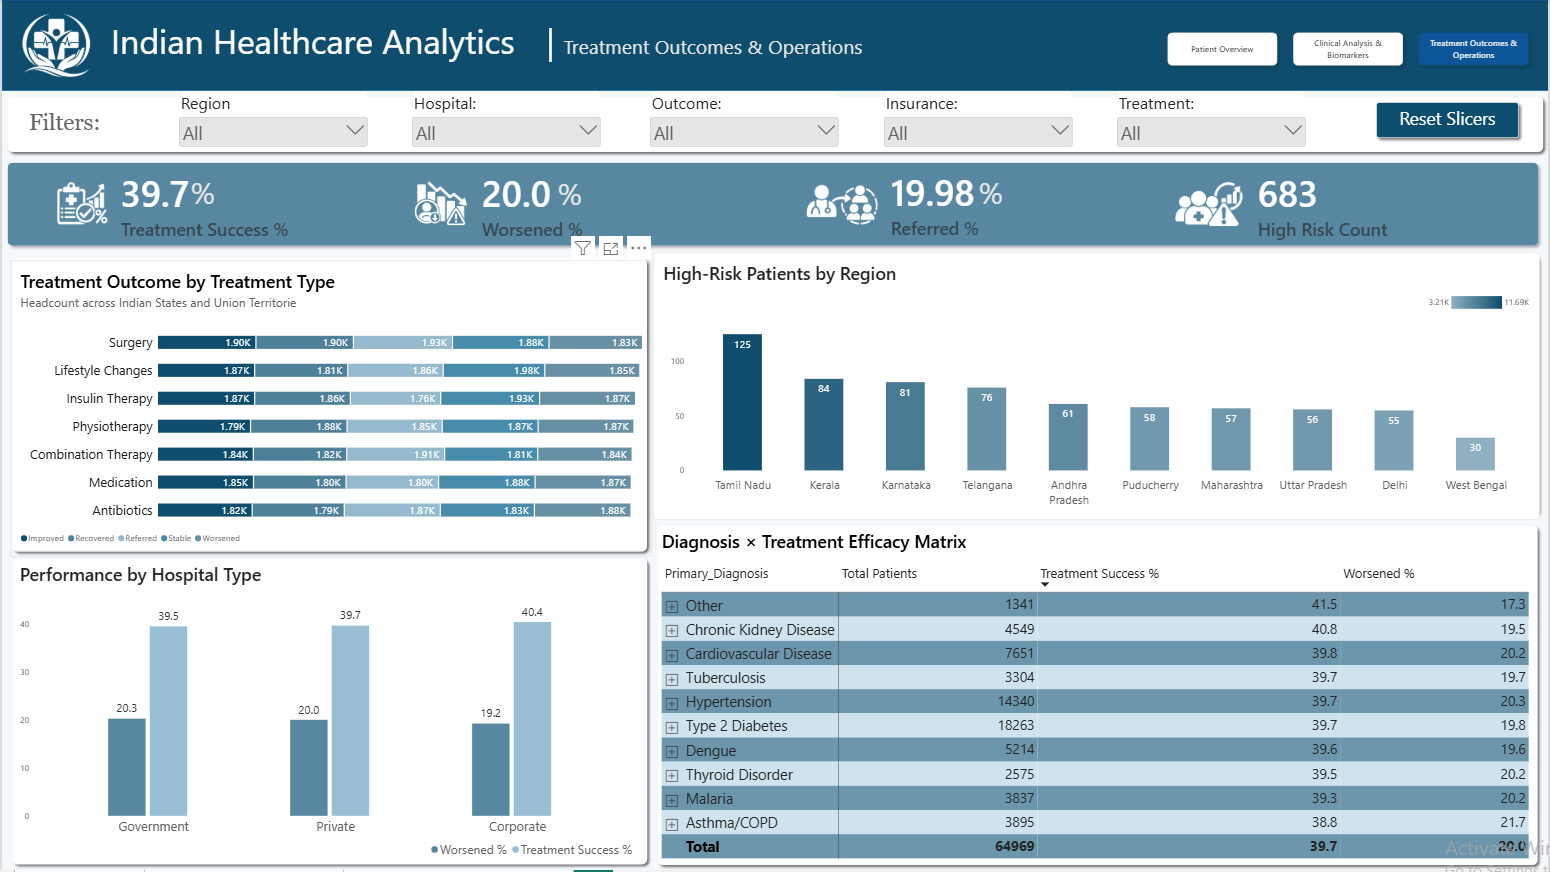

Layout of this report page (visuals, bound fields, positions):
{"tool":"powerbi","page":{"name":"Treatment Outcomes & Operations","canvas":[2560,1440],"ordinal":2},"visuals":[{"type":"shape","box":[0,260,2552,156],"z":0},{"type":"shape","box":[0,0,2560,150],"z":1000},{"type":"cardVisual","fields":{"Data":["Indian_healthcare.High Risk Count"]},"box":[2062.5,262.5,295,150],"z":2000},{"type":"textbox","box":[180,30,2355,87.5],"z":3000},{"type":"shape","box":[8.3,416.7,1068.3,505],"z":4000},{"type":"shape","box":[0,150,2560,110],"z":5000},{"type":"cardVisual","fields":{"Data":["Indian_healthcare.Referred %"]},"box":[1455,262.5,205,147.5],"z":5000,"group":"g3"},{"type":"barChart","title":"Treatment Outcome by Treatment Type","fields":{"Series":["Indian_healthcare.Treatment_Outcome"],"Y":["Indian_healthcare.Total Patients"],"Category":["Indian_healthcare.Treatment_Type"]},"box":[13.3,430,1063.3,491.7],"z":6000},{"type":"cardVisual","fields":{"Data":["Indian_healthcare.Treatment Success %"]},"box":[180,262.5,312.5,150],"z":7000,"group":"g1"},{"type":"shape","box":[1077.8,412.2,1474.4,450],"z":7000},{"type":"shape","box":[1076.7,860,1475,580],"z":8000},{"type":"shape","box":[7.8,915.6,1068.9,524.4],"z":9000},{"type":"cardVisual","fields":{"Data":["Indian_healthcare.Worsened %"]},"box":[777.5,277.5,217.5,120],"z":10000,"group":"g2"},{"type":"pivotTable","title":"Diagnosis × Treatment Efficacy Matrix ","fields":{"Rows":["Indian_healthcare.Primary_Diagnosis","Indian_healthcare.Treatment_Type"],"Values":["Indian_healthcare.Total Patients","Indian_healthcare.Treatment Success %","Indian_healthcare.Worsened %"]},"box":[1076.7,860,1468.3,580],"z":10000},{"type":"image","box":[0,0,180,150],"z":11000},{"type":"actionButton","box":[2266,160,253.3,76.7],"z":12000},{"type":"group","id":"g1","title":"Group 1","box":[180,262.5,312.5,150],"z":13000},{"type":"group","id":"g2","title":"Group 2","box":[777.5,277.5,217.5,120],"z":14000},{"type":"slicer","fields":{"Values":["Indian_healthcare.Region"]},"box":[288.8,150,322,92],"z":15000},{"type":"textbox","box":[44,180,135.7,44.3],"z":16000},{"type":"slicer","fields":{"Values":["Indian_healthcare.Hospital_Type"]},"box":[673.1,150,322,92],"z":17000},{"type":"slicer","fields":{"Values":["Indian_healthcare.Treatment_Outcome"]},"box":[1066.9,150,322,92],"z":18000},{"type":"slicer","fields":{"Values":["Indian_healthcare.Insurance_Covered"]},"box":[1455.4,150,322,92],"z":19000},{"type":"group","id":"g3","title":"Group 3","box":[1455,262.5,205,147.5],"z":20000},{"type":"slicer","fields":{"Values":["Indian_healthcare.Treatment_Type"]},"box":[1841,150,322,92],"z":21000},{"type":"pageNavigator","box":[1920,44,616.4,73.8],"z":22000},{"type":"image","box":[73.1,282.3,115.8,106.9],"z":23000,"group":"g4"},{"type":"image","box":[668.3,282.5,115.8,106.9],"z":23000,"group":"g5"},{"type":"image","box":[1933,283,130,110],"z":23000,"group":"g7"},{"type":"image","box":[1325.6,283.1,130,110],"z":23000,"group":"g6"},{"type":"textbox","box":[920,288.2,48.2,73.6],"z":23000},{"type":"textbox","box":[1616.7,286.7,47.5,65.8],"z":24000},{"type":"textbox","box":[312.2,286.7,48.3,69.2],"z":25000},{"type":"group","id":"g4","title":"Group 2","box":[73.1,282.3,116.2,106.9],"z":26000},{"type":"group","id":"g5","title":"Group 2","box":[668.3,282.5,115.8,106.7],"z":27000},{"type":"clusteredColumnChart","title":"Performance by Hospital Type","fields":{"Category":["Indian_healthcare.Hospital_Type"],"Y":["Indian_healthcare.Worsened %","Indian_healthcare.Treatment Success %"]},"box":[14,916,1052,524],"z":28000},{"type":"group","id":"g6","title":"Group 2","box":[1325.6,283.1,130,110],"z":29000},{"type":"columnChart","title":"High-Risk Patients by Region","fields":{"Category":["Indian_healthcare.Region"],"Y":["Indian_healthcare.High Risk Count"]},"box":[1077.5,417.5,1467.5,442.5],"z":30000},{"type":"group","id":"g7","title":"Group 2","box":[1933,283,130,110],"z":31000}]}

Visuals, with their boxes in screenshot pixels (x1, y1, x2, y2), scaled from the page's 2560x1440 canvas onto the 1550x872 screenshot:
shape: select_region(0, 157, 1545, 252)
shape: select_region(0, 0, 1549, 91)
cardVisual - Indian_healthcare.High Risk Count: select_region(1249, 159, 1427, 250)
textbox: select_region(109, 18, 1535, 71)
shape: select_region(5, 252, 652, 558)
shape: select_region(0, 91, 1549, 157)
cardVisual - Indian_healthcare.Referred %: select_region(881, 159, 1005, 248)
"Treatment Outcome by Treatment Type" barChart: select_region(8, 260, 652, 558)
cardVisual - Indian_healthcare.Treatment Success %: select_region(109, 159, 298, 250)
shape: select_region(653, 250, 1545, 522)
shape: select_region(652, 521, 1545, 871)
shape: select_region(5, 554, 652, 871)
cardVisual - Indian_healthcare.Worsened %: select_region(471, 168, 602, 241)
"Diagnosis × Treatment Efficacy Matrix " pivotTable: select_region(652, 521, 1541, 871)
image: select_region(0, 0, 109, 91)
actionButton: select_region(1372, 97, 1525, 143)
"Group 1" group: select_region(109, 159, 298, 250)
"Group 2" group: select_region(471, 168, 602, 241)
slicer - Indian_healthcare.Region: select_region(175, 91, 370, 147)
textbox: select_region(27, 109, 109, 136)
slicer - Indian_healthcare.Hospital_Type: select_region(408, 91, 603, 147)
slicer - Indian_healthcare.Treatment_Outcome: select_region(646, 91, 841, 147)
slicer - Indian_healthcare.Insurance_Covered: select_region(881, 91, 1076, 147)
"Group 3" group: select_region(881, 159, 1005, 248)
slicer - Indian_healthcare.Treatment_Type: select_region(1115, 91, 1310, 147)
pageNavigator: select_region(1162, 27, 1536, 71)
image: select_region(44, 171, 114, 236)
image: select_region(405, 171, 475, 236)
image: select_region(1170, 171, 1249, 238)
image: select_region(803, 171, 881, 238)
textbox: select_region(557, 175, 586, 219)
textbox: select_region(979, 174, 1008, 213)
textbox: select_region(189, 174, 218, 216)
"Group 2" group: select_region(44, 171, 115, 236)
"Group 2" group: select_region(405, 171, 475, 236)
"Performance by Hospital Type" clusteredColumnChart: select_region(8, 555, 645, 871)
"Group 2" group: select_region(803, 171, 881, 238)
"High-Risk Patients by Region" columnChart: select_region(652, 253, 1541, 521)
"Group 2" group: select_region(1170, 171, 1249, 238)
